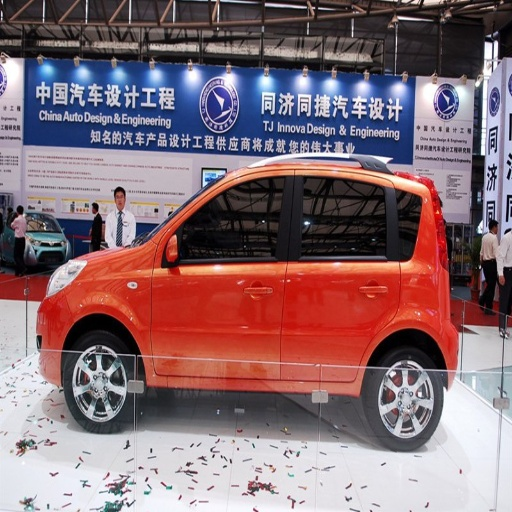front_left_door: (153, 168, 292, 381)
